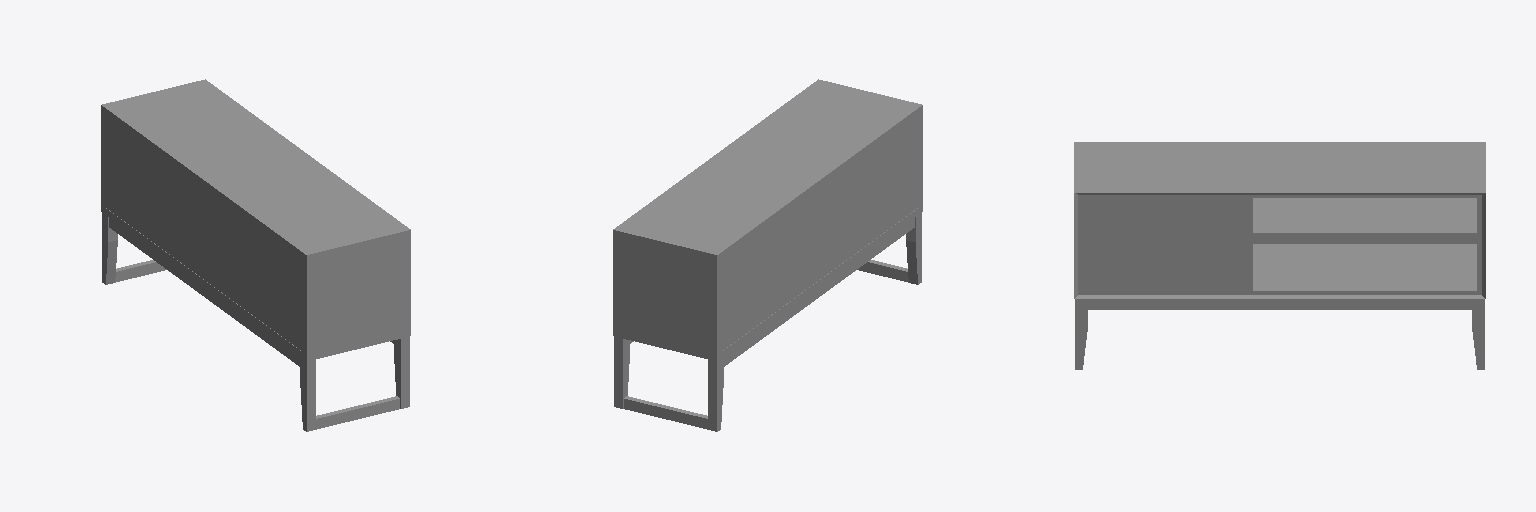
File: Chocofur_free_08_wood.obj
3 renders of one model, left to right at view 1: azimuth 30°, elevation 25°; view 2: azimuth 150°, elevation 25°; view 3: azimuth 270°, elevation 25°, orthographic.
Parts seen in each view (by area): view 1: Chocofur_free_08_wood_Chocofur_free_08_wood_Material.001, Chocofur_free_08_wood_Chocofur_free_08_wood_Material; view 2: Chocofur_free_08_wood_Chocofur_free_08_wood_Material.001, Chocofur_free_08_wood_Chocofur_free_08_wood_Material; view 3: Chocofur_free_08_wood_Chocofur_free_08_wood_Material.001, Chocofur_free_08_wood_Chocofur_free_08_wood_Material.
Boxes of the visible parts, <box> form: Chocofur_free_08_wood_Chocofur_free_08_wood_Material.001: <box>101,79,410,361</box>; Chocofur_free_08_wood_Chocofur_free_08_wood_Material: <box>102,212,409,431</box>; Chocofur_free_08_wood_Chocofur_free_08_wood_Material.001: <box>613,79,922,361</box>; Chocofur_free_08_wood_Chocofur_free_08_wood_Material: <box>614,212,921,431</box>; Chocofur_free_08_wood_Chocofur_free_08_wood_Material.001: <box>1074,142,1485,298</box>; Chocofur_free_08_wood_Chocofur_free_08_wood_Material: <box>1075,198,1484,369</box>.
Bounding box in the file's own units: 0.4662 × 0.7565 × 1.59.